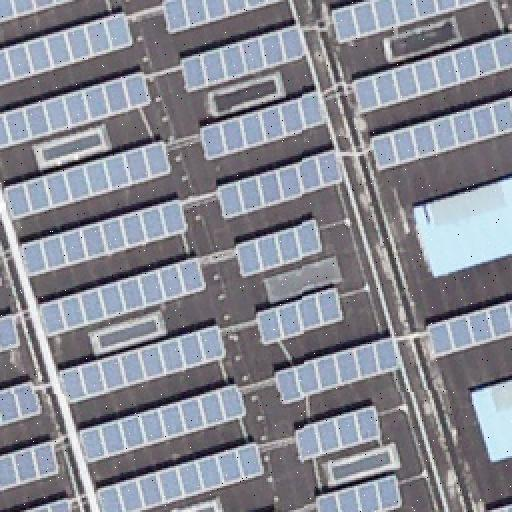solar-panel: (39, 253, 209, 339), (58, 322, 230, 406), (2, 138, 174, 222), (79, 382, 249, 466), (21, 197, 187, 275), (352, 33, 512, 111), (0, 70, 152, 150), (94, 441, 266, 511), (368, 95, 512, 169), (0, 10, 136, 86), (212, 148, 344, 224), (200, 90, 328, 162), (275, 333, 405, 403), (180, 25, 308, 95), (329, 0, 487, 40), (256, 285, 348, 347), (235, 218, 325, 278), (425, 300, 511, 360), (294, 407, 382, 465), (161, 0, 287, 36), (313, 472, 407, 512), (0, 441, 64, 495), (0, 379, 44, 429), (0, 0, 76, 24), (1, 314, 23, 354), (21, 496, 75, 512), (486, 504, 512, 512), (1, 270, 7, 290), (268, 508, 280, 512)
